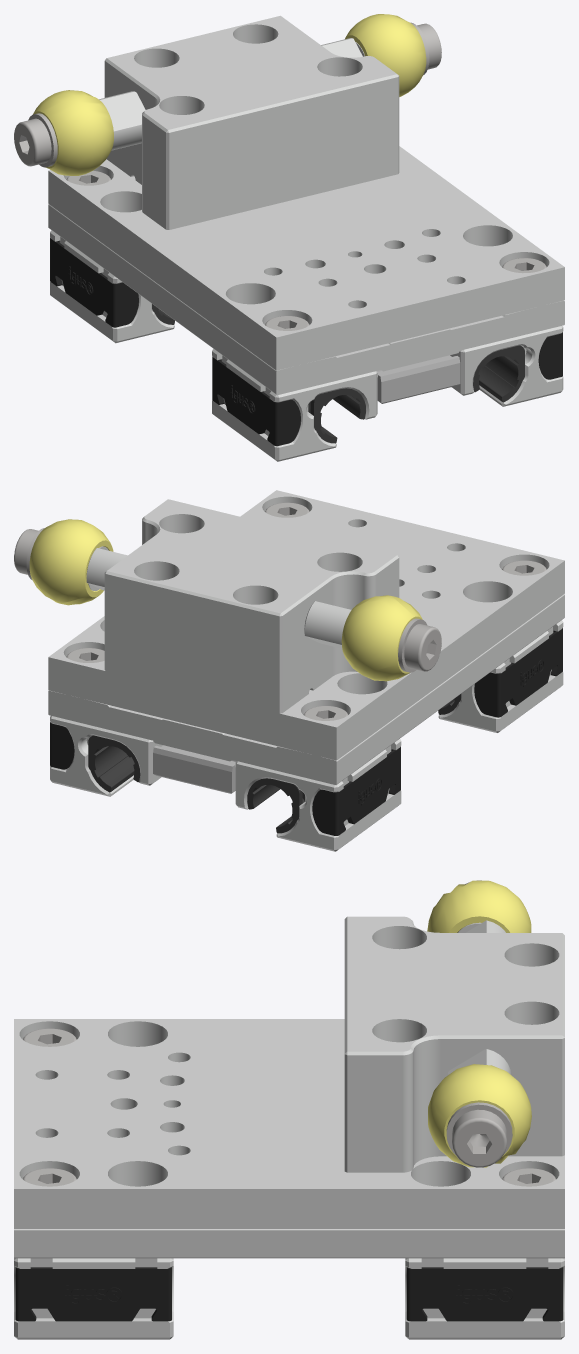
File: arm.glb
3 renders of one model, top to bottom at view 1: azimuth 30°, elevation 25°; view 2: azimuth 150°, elevation 25°; view 3: azimuth 270°, elevation 25°, orthographic. The views are drawn at different scales.
Visible parts, largest first — view 1: ZWY-104005, ETY-DR-0055, ZSY-104012, WKM-10-037, WMA-01-10-AL012, WRZ-011019, WRZ-011020, WKM-10-040, WMA-01-10-AL015, WMA-01-10-AL013, ZSY-104010, J200UMA-01-025 (+6 smaller); view 2: ETY-DR-0055, ZWY-104005, ZSY-104012, WKM-10-040, WKM-10-037, WMA-01-10-AL013, WRZ-011020, WRZ-011019, WMA-01-10-AL014, WMA-01-10-AL012, ZSY-104011, J200UMA-01-024 (+11 smaller); view 3: ZWY-104005, ETY-DR-0055, ZSY-104012, WRZ-011021, WRZ-011022, WMA-01-10-AL014, WMA-01-10-AL015, WKM-10-040, WKM-10-037, NOR-21348, NOR-21349, NOR-21385 (+3 smaller).
Boxes of the visible parts, x1,y1,x2,y2 form: ZWY-104005: (48,146,564,370); ETY-DR-0055: (104,15,399,229); ZSY-104012: (48,204,564,395); WKM-10-037: (33,90,113,175); WMA-01-10-AL012: (212,349,377,461); WRZ-011019: (212,356,300,446); WRZ-011020: (50,238,138,327); WKM-10-040: (345,14,426,96); WMA-01-10-AL015: (450,326,563,406); WMA-01-10-AL013: (50,230,174,343); ZSY-104010: (376,355,460,403); J200UMA-01-025: (473,345,524,402); ETY-DR-0055: (104,499,399,713); ZWY-104005: (48,490,564,760); ZSY-104012: (48,594,564,784); WKM-10-040: (29,519,113,605); WKM-10-037: (341,595,422,681); WMA-01-10-AL013: (235,739,401,851); WRZ-011020: (312,746,400,835); WRZ-011019: (474,628,562,717); WMA-01-10-AL014: (50,716,162,796); WMA-01-10-AL012: (438,620,563,732); ZSY-104011: (153,745,236,793); J200UMA-01-024: (88,735,140,792); ZWY-104005: (14,1019,564,1228); ETY-DR-0055: (344,916,564,1172); ZSY-104012: (14,1229,564,1258); WRZ-011021: (407,1267,563,1321); WRZ-011022: (15,1267,171,1321); WMA-01-10-AL014: (405,1258,564,1339); WMA-01-10-AL015: (14,1258,173,1339); WKM-10-040: (428,1064,531,1167); WKM-10-037: (427,880,531,932); NOR-21348: (452,1109,506,1167); NOR-21349: (446,1102,512,1154); NOR-21385: (502,1168,555,1186).
Bounding box in the file's own units: 0.103 × 0.0559 × 0.1.
